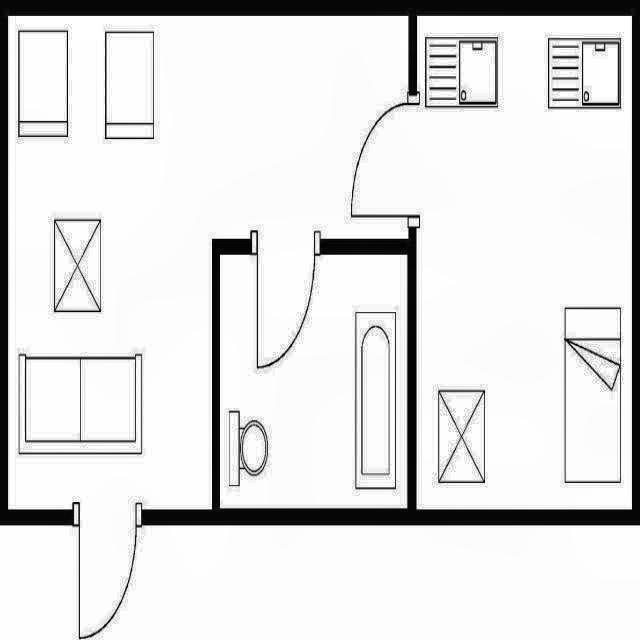room: (8, 16, 409, 509), (417, 16, 632, 509), (220, 256, 408, 508)
